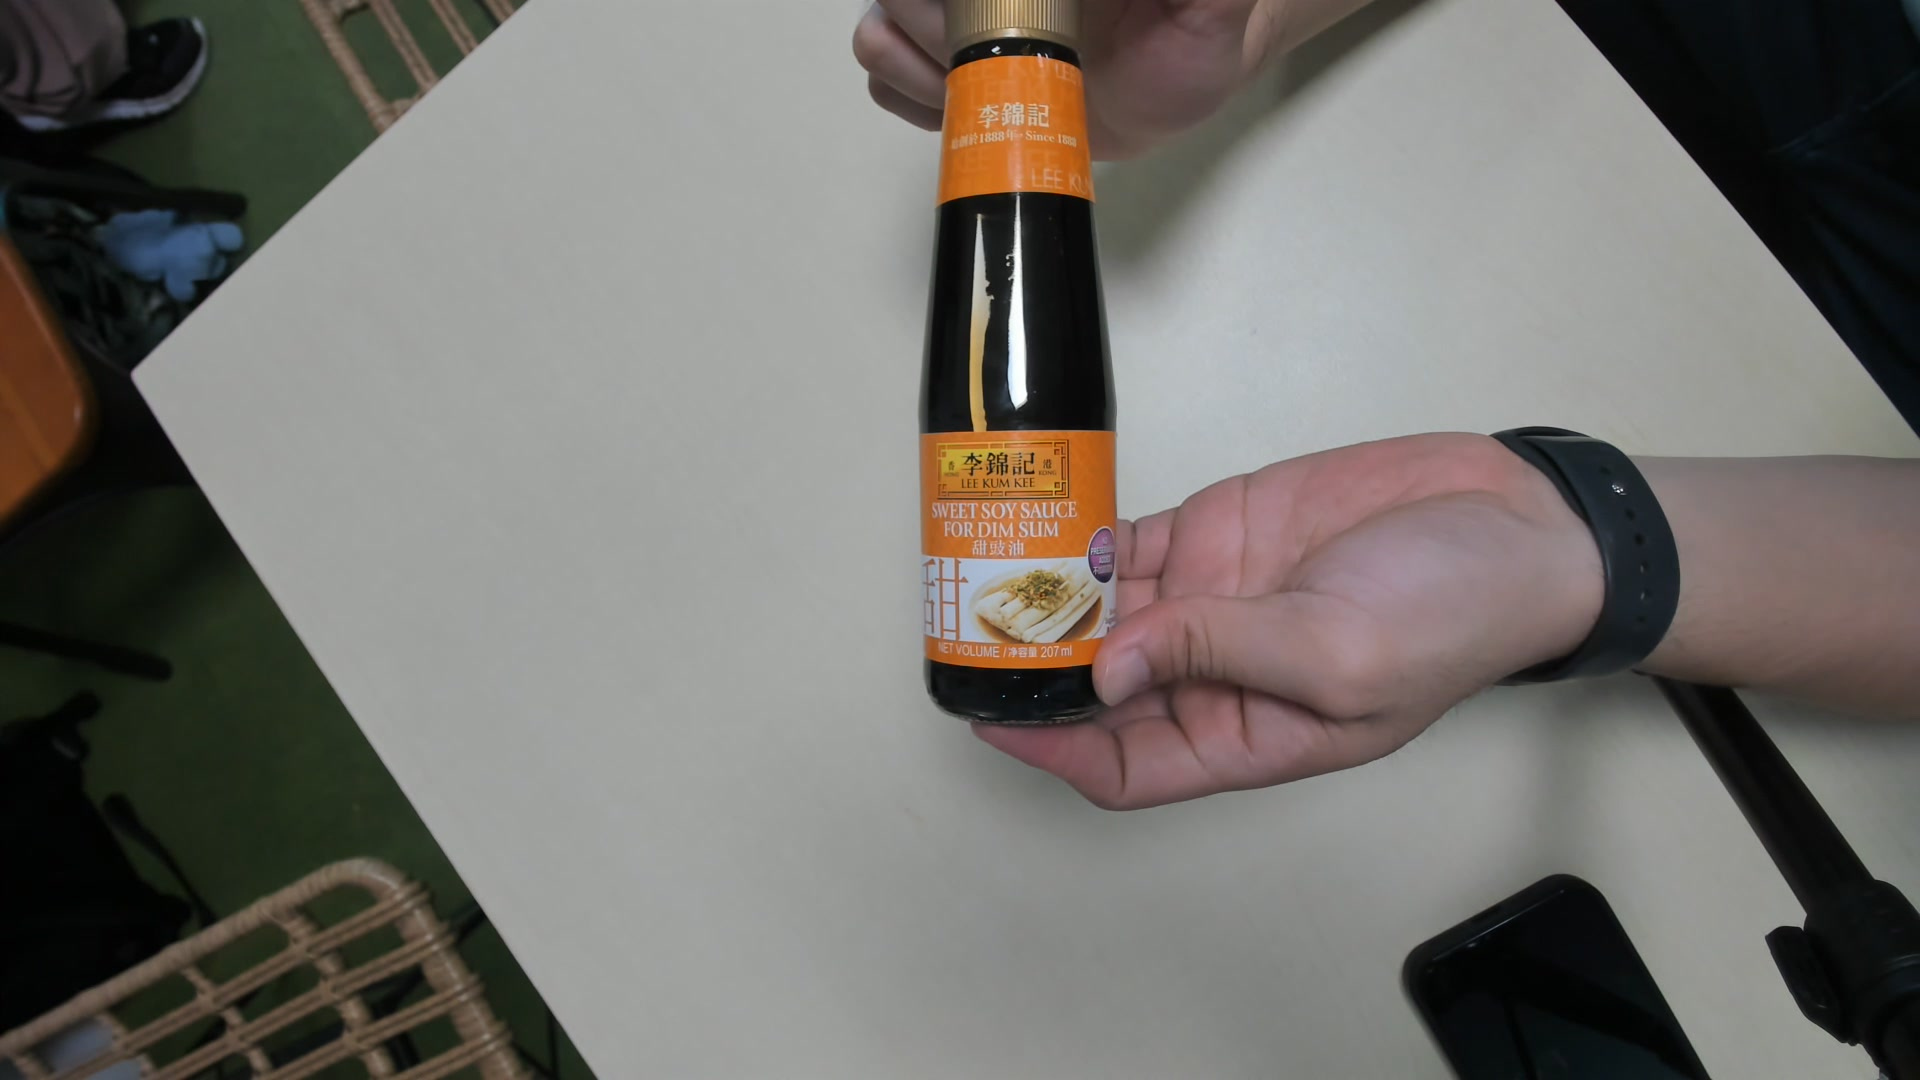OtherSauceDressing_200-299g_NonHalal_NonHealthy: (916, 1, 1124, 724)
